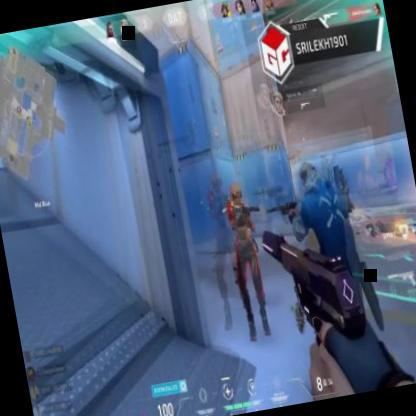enemy: (219, 179, 282, 342)
enemy_head: (228, 182, 243, 207)
